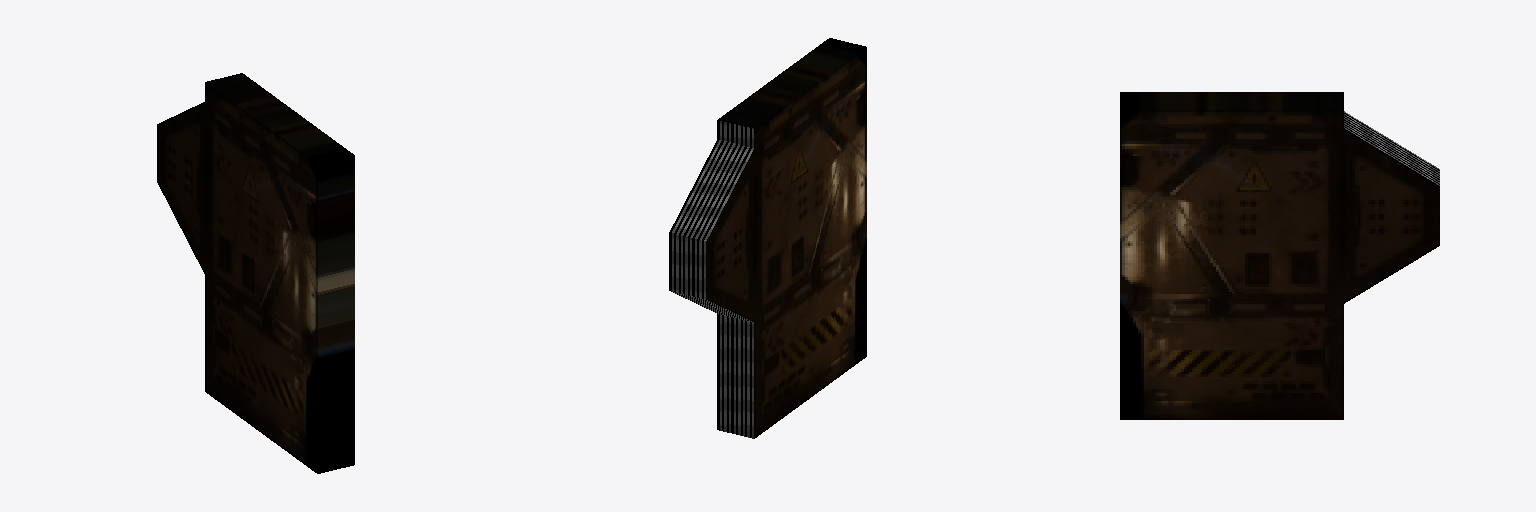
The picture shows the model from 3 angles: view 1: azimuth 30°, elevation 25°; view 2: azimuth 150°, elevation 25°; view 3: azimuth 270°, elevation 25°; orthographic projection.
Visible parts, largest first — view 1: MODEL_DAPPERDOORL; view 2: MODEL_DAPPERDOORL; view 3: MODEL_DAPPERDOORL.
Part boxes in pixels (bbox=[...]): MODEL_DAPPERDOORL: bbox=[157, 73, 354, 473]; MODEL_DAPPERDOORL: bbox=[669, 38, 866, 438]; MODEL_DAPPERDOORL: bbox=[1120, 92, 1439, 419].
Size of the model in its own units: 16 by 128 by 120.
Materials: 2 (2 with a texture image).